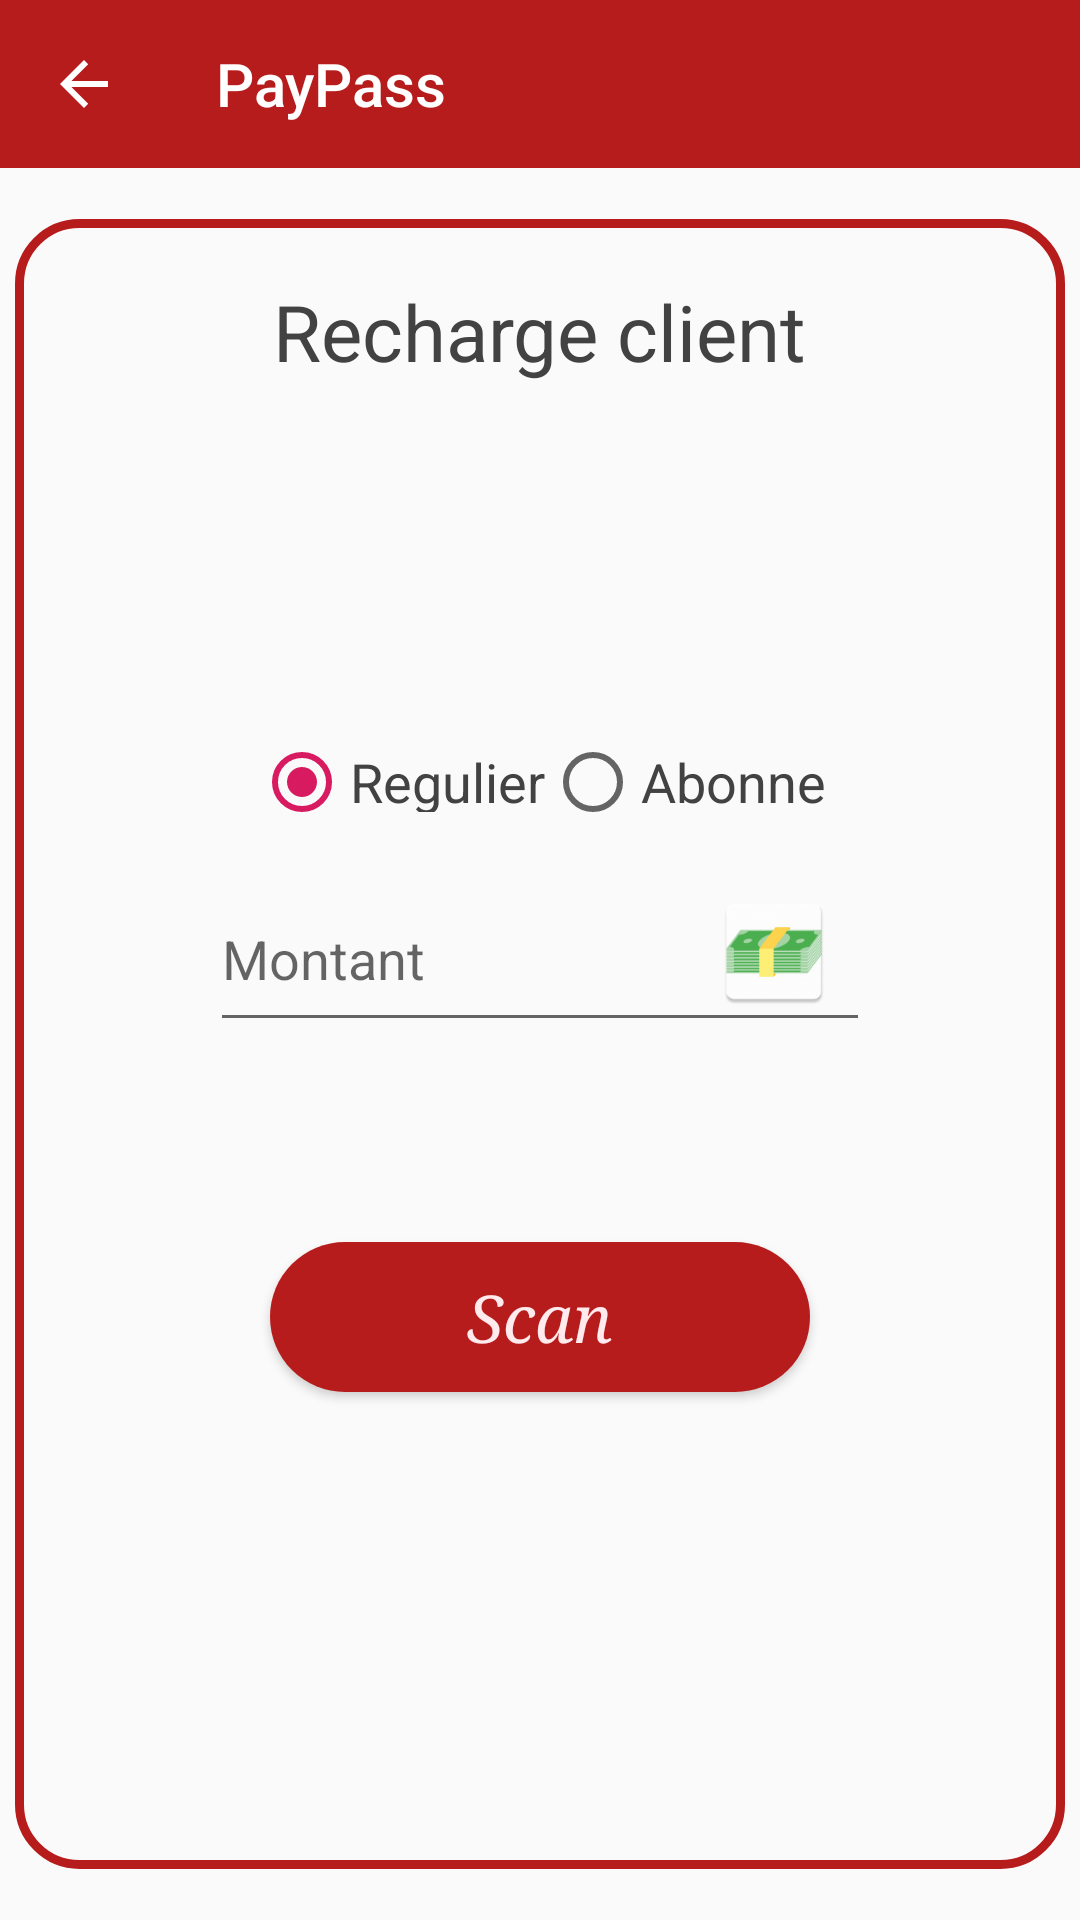

Where icons sit on this 1080px x 1920px app screen, as (x1, y1, x2, y2):
money: (726, 913, 822, 1002)
